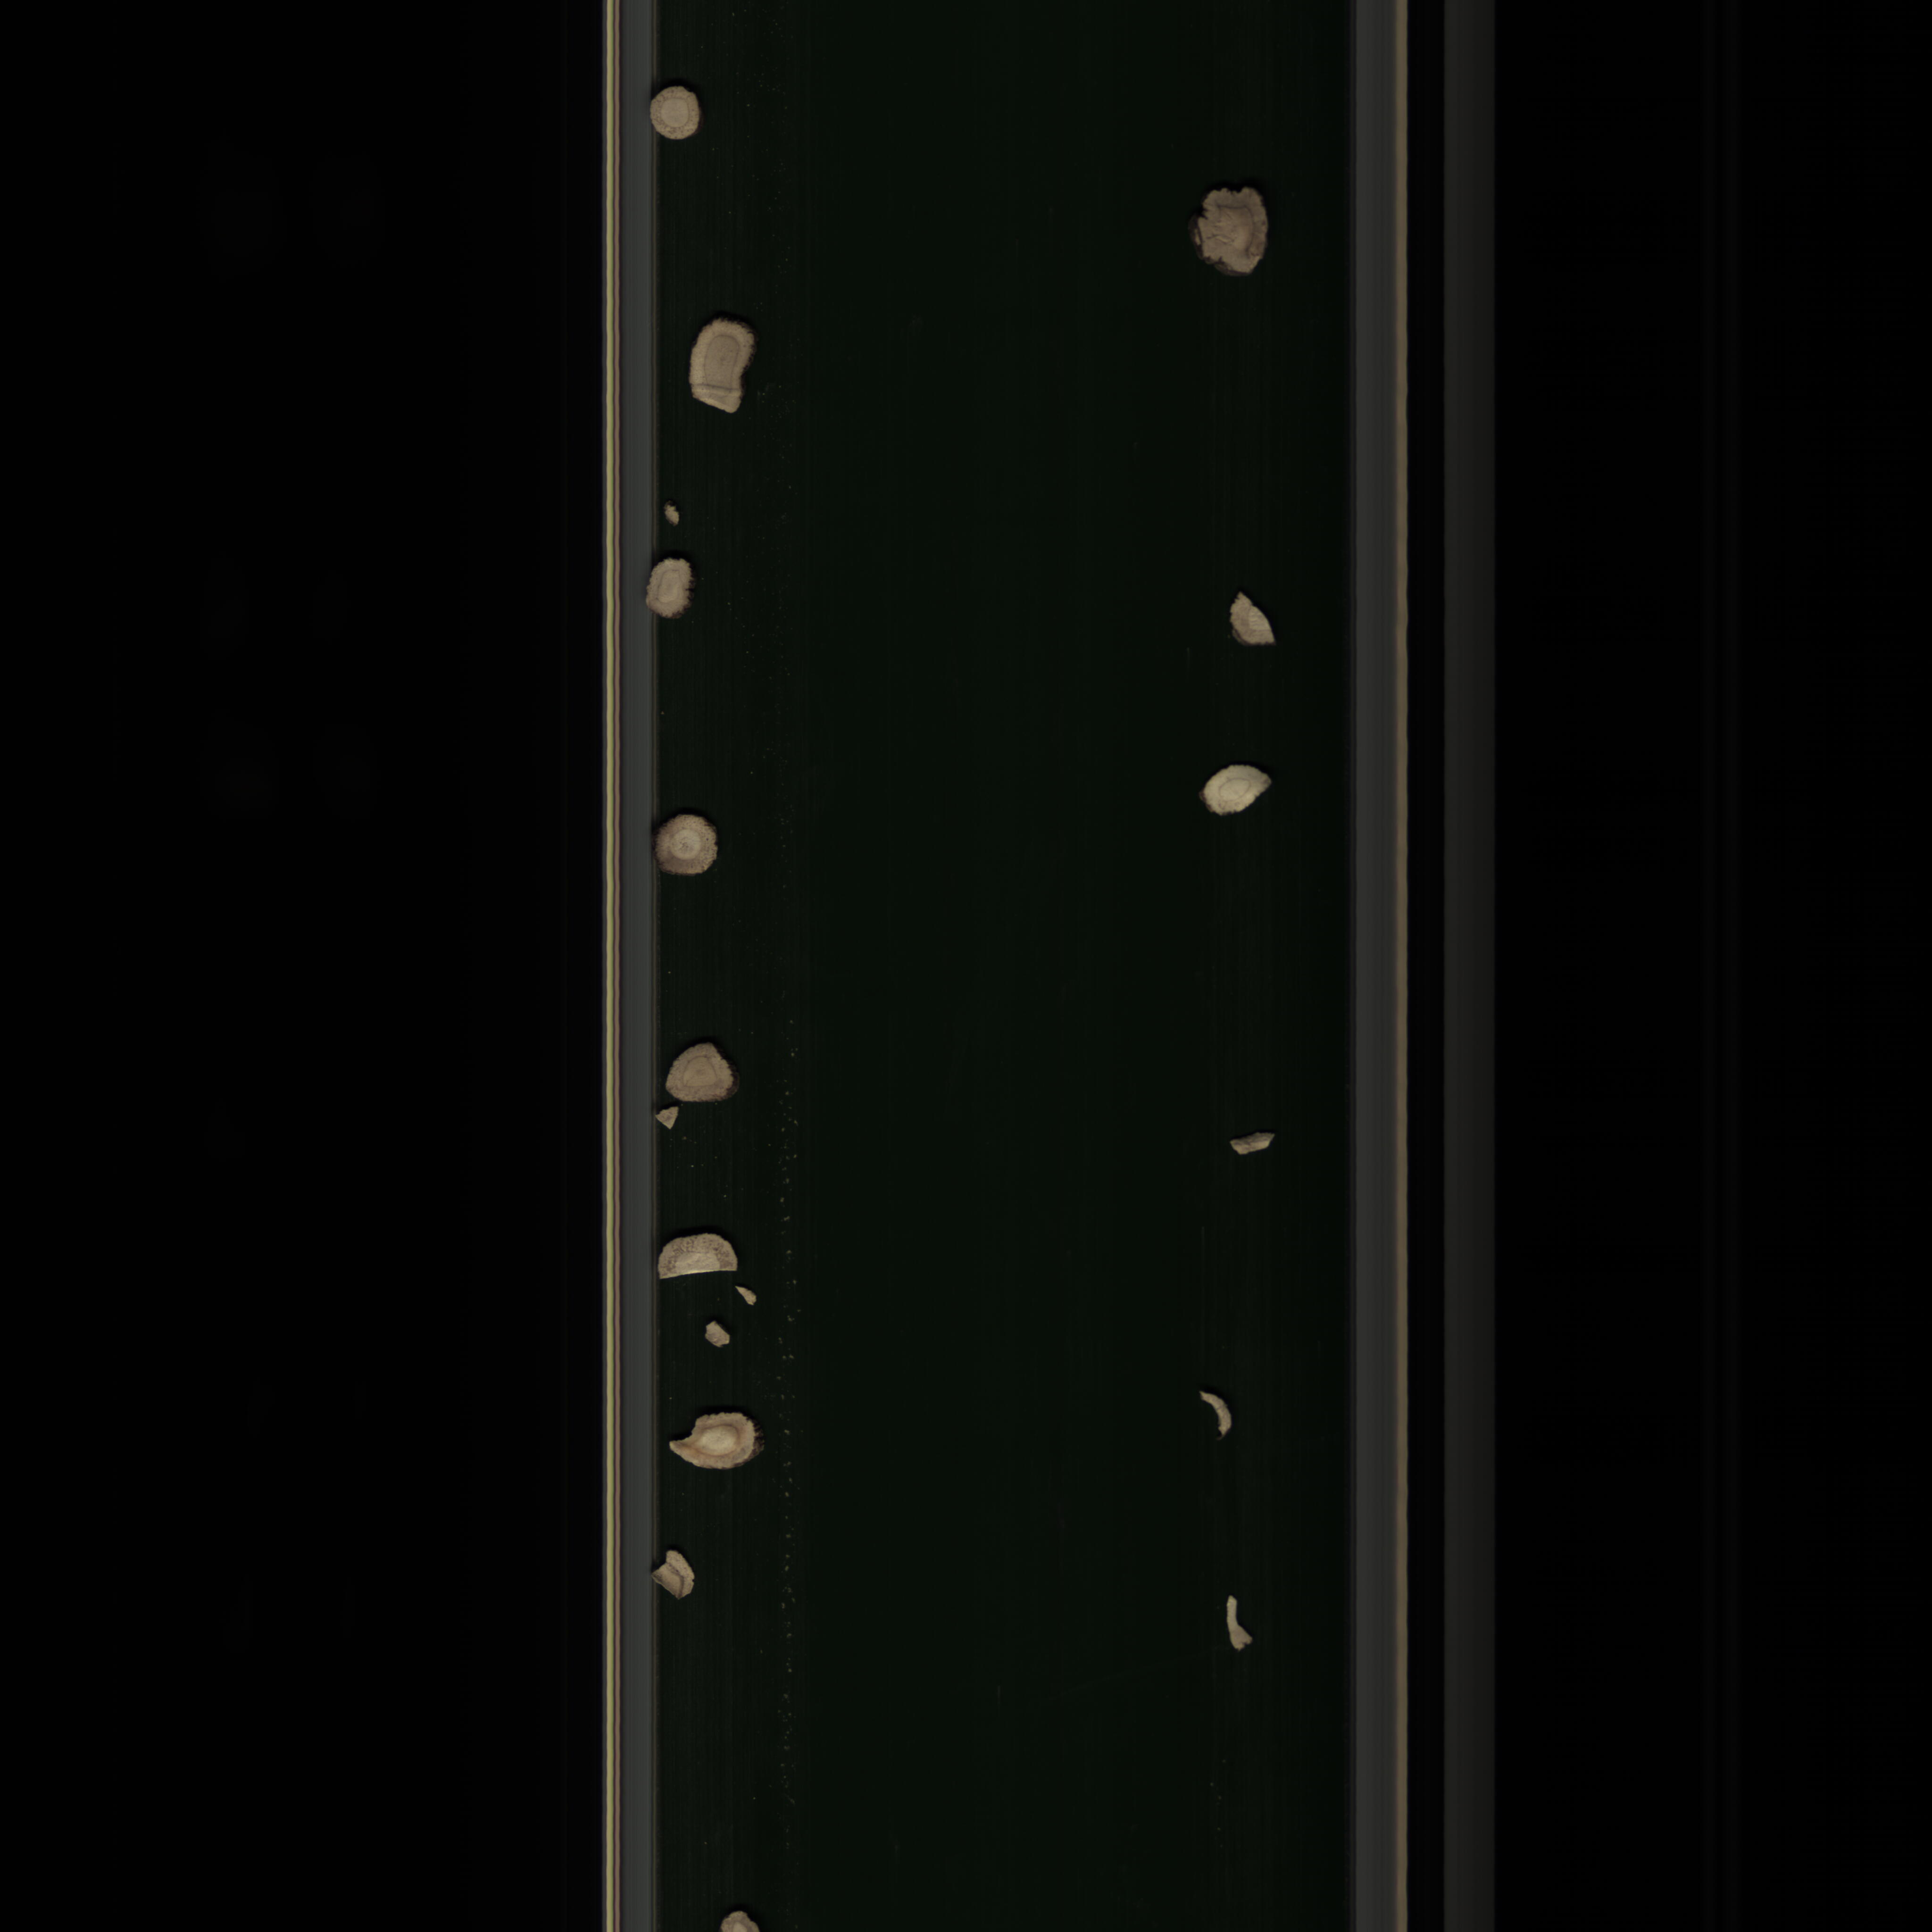debris: (655, 1230, 754, 1283), (1221, 587, 1283, 655), (1215, 1582, 1260, 1654), (649, 1546, 704, 1605), (1194, 1385, 1238, 1442), (1217, 1134, 1292, 1162), (697, 1313, 741, 1357), (727, 1277, 759, 1313)
distortion: (662, 1408, 775, 1477)
moldy: (1198, 180, 1276, 285)
